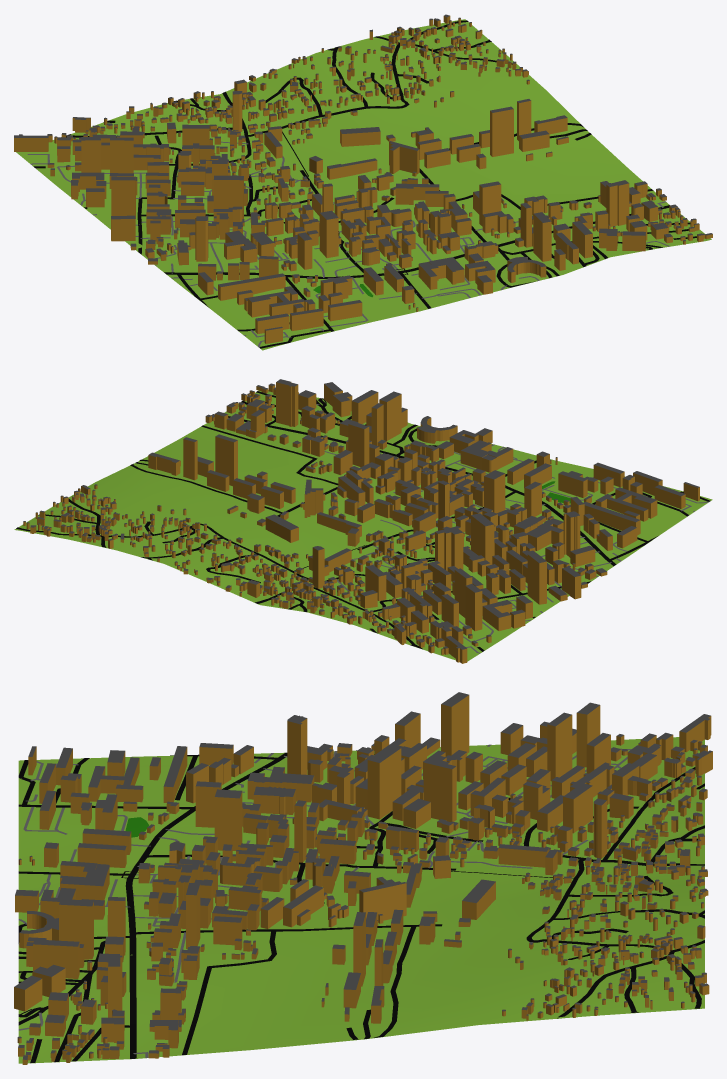
The model's file is tile_08_05.glb.
3 renders of one model, top to bottom at view 1: azimuth 30°, elevation 25°; view 2: azimuth 150°, elevation 25°; view 3: azimuth 270°, elevation 25°, orthographic. The views are drawn at different scales.
Visible parts, largest first — view 1: Ub_small.osm_buildings_08_05, Terrain_08_05, Ub_small.osm_roads_residential_08_05, Ub_small.osm_roads_service_08_05; view 2: Ub_small.osm_buildings_08_05, Terrain_08_05, Ub_small.osm_roads_residential_08_05, Ub_small.osm_roads_service_08_05, Ub_small.osm_roads_primary_08_05; view 3: Ub_small.osm_buildings_08_05, Terrain_08_05, Ub_small.osm_roads_residential_08_05, Ub_small.osm_roads_service_08_05, Ub_small.osm_roads_primary_08_05.
Boxes of the visible parts, left/top/right/bottom form: Ub_small.osm_buildings_08_05: left=14, top=14, right=712, bottom=343; Terrain_08_05: left=16, top=19, right=711, bottom=350; Ub_small.osm_roads_residential_08_05: left=33, top=20, right=696, bottom=348; Ub_small.osm_roads_service_08_05: left=27, top=141, right=669, bottom=347; Ub_small.osm_buildings_08_05: left=23, top=379, right=699, bottom=663; Terrain_08_05: left=14, top=390, right=712, bottom=661; Ub_small.osm_roads_residential_08_05: left=16, top=391, right=710, bottom=651; Ub_small.osm_roads_service_08_05: left=316, top=404, right=709, bottom=653; Ub_small.osm_roads_primary_08_05: left=228, top=416, right=616, bottom=566; Ub_small.osm_buildings_08_05: left=14, top=692, right=712, bottom=1064; Terrain_08_05: left=18, top=737, right=704, bottom=1063; Ub_small.osm_roads_residential_08_05: left=18, top=750, right=704, bottom=1063; Ub_small.osm_roads_service_08_05: left=18, top=744, right=631, bottom=1057; Ub_small.osm_roads_primary_08_05: left=125, top=752, right=287, bottom=1058.
Bounding box in the file's own units: 1005 × 130 × 947.
